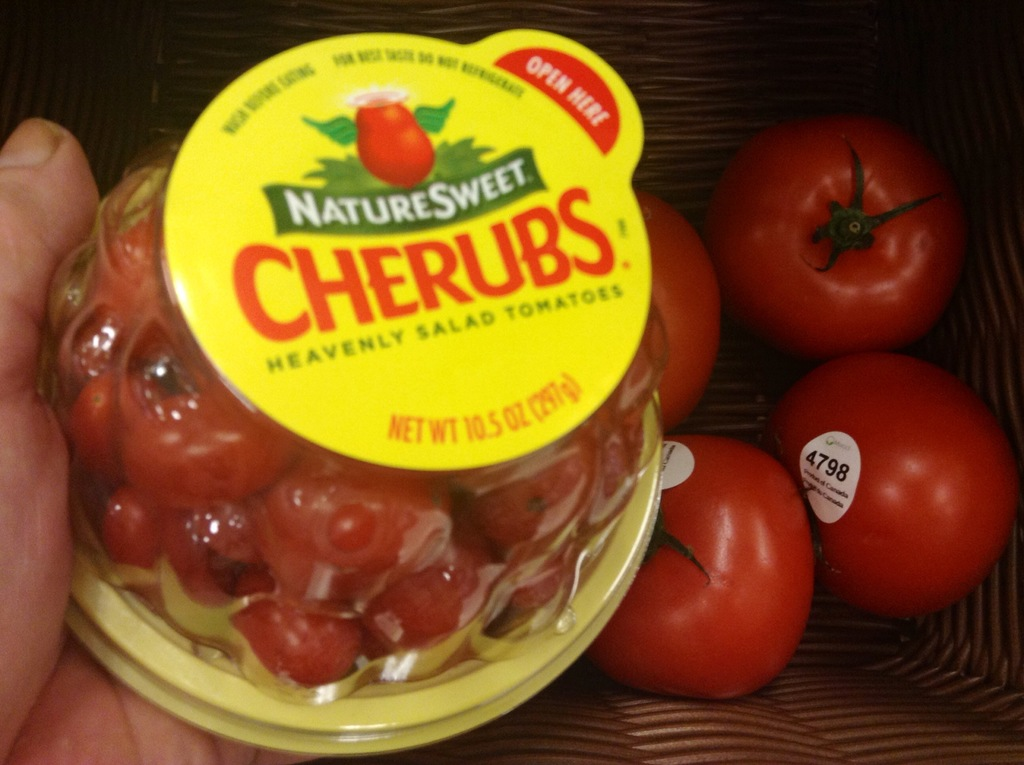Tomato: (691, 113, 990, 364), (769, 347, 1016, 619), (593, 424, 815, 694), (627, 185, 720, 433)
